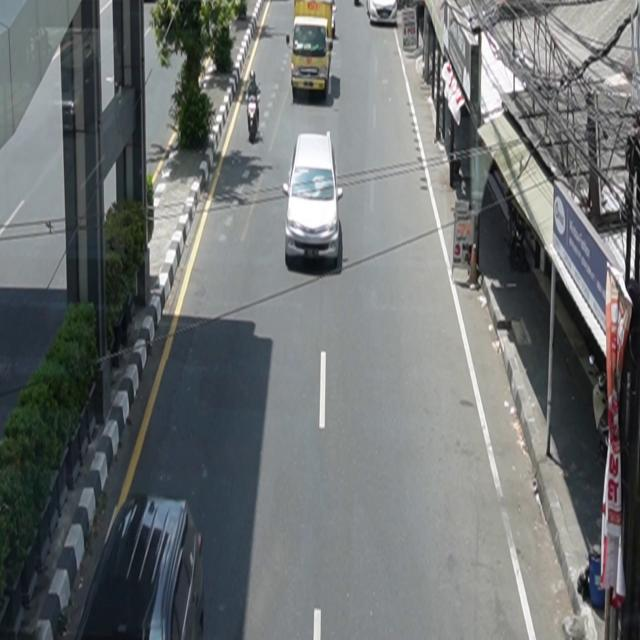car: (76, 494, 206, 640), (283, 131, 344, 271), (287, 16, 334, 100), (367, 1, 399, 26)
